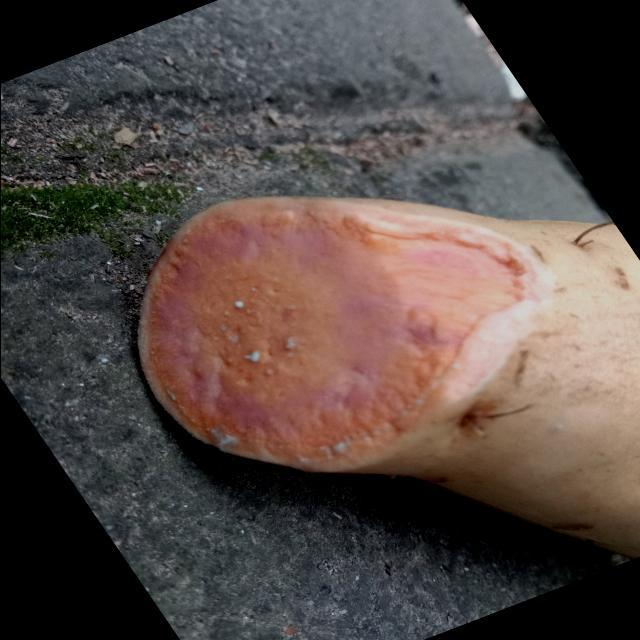Healthy Sweet Potato: (138, 198, 468, 471)
